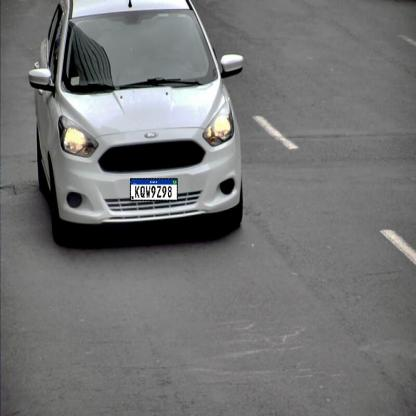PlacaM: (130, 178, 178, 201)
